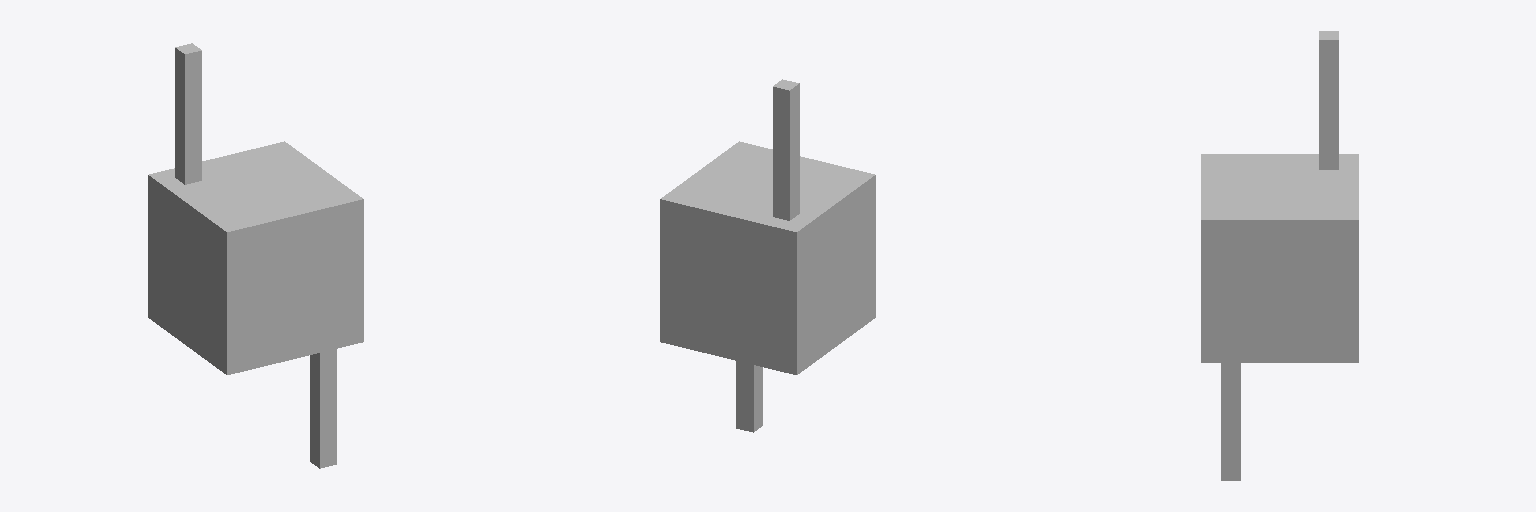
File: room2.obj
3 views of the same model, side by side, from view 1: azimuth 30°, elevation 25°; view 2: azimuth 150°, elevation 25°; view 3: azimuth 270°, elevation 25° (orthographic).
Parts seen in each view (by area): view 1: Cube; view 2: Cube; view 3: Cube.
Part boxes in pixels (bbox=[...]): Cube: bbox=[148, 43, 363, 468]; Cube: bbox=[660, 79, 875, 432]; Cube: bbox=[1201, 31, 1358, 480].
Bounding box in the file's own units: 2 × 5.58 × 2.